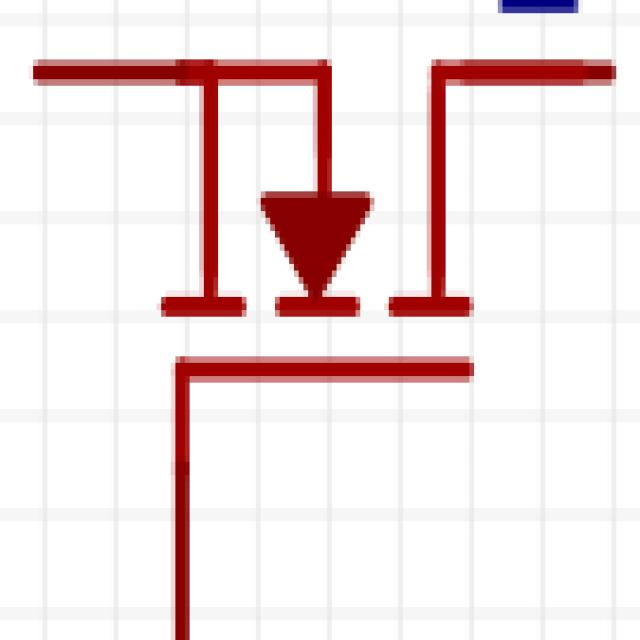nmos: (12, 25, 638, 626)
